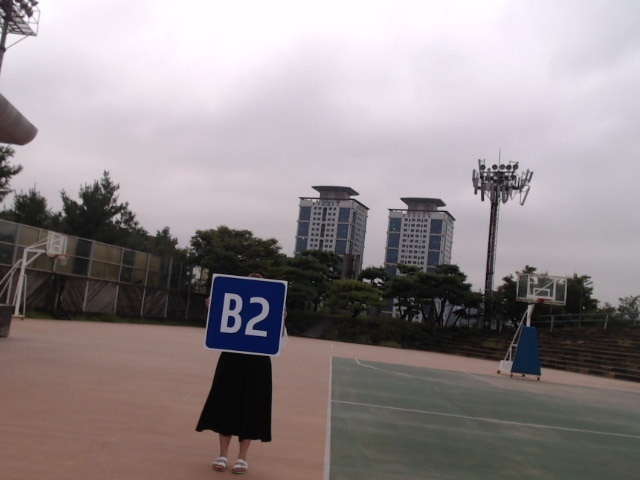delivery_b2: (204, 274, 287, 355)
